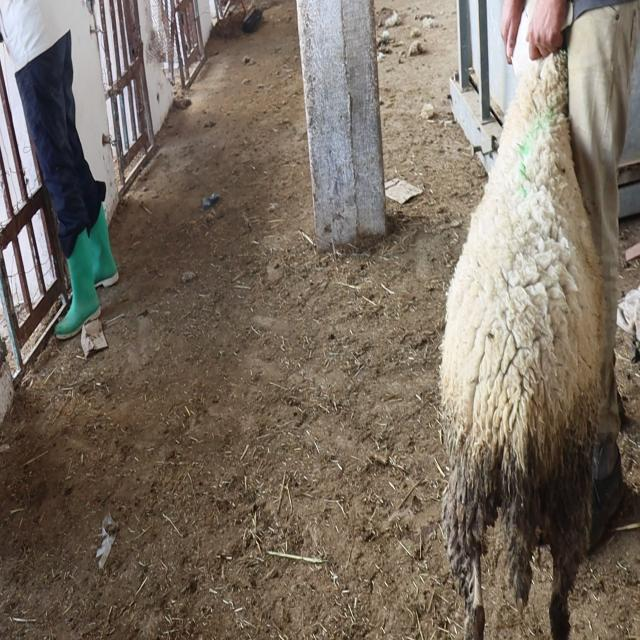Score_4: (440, 48, 606, 639)
